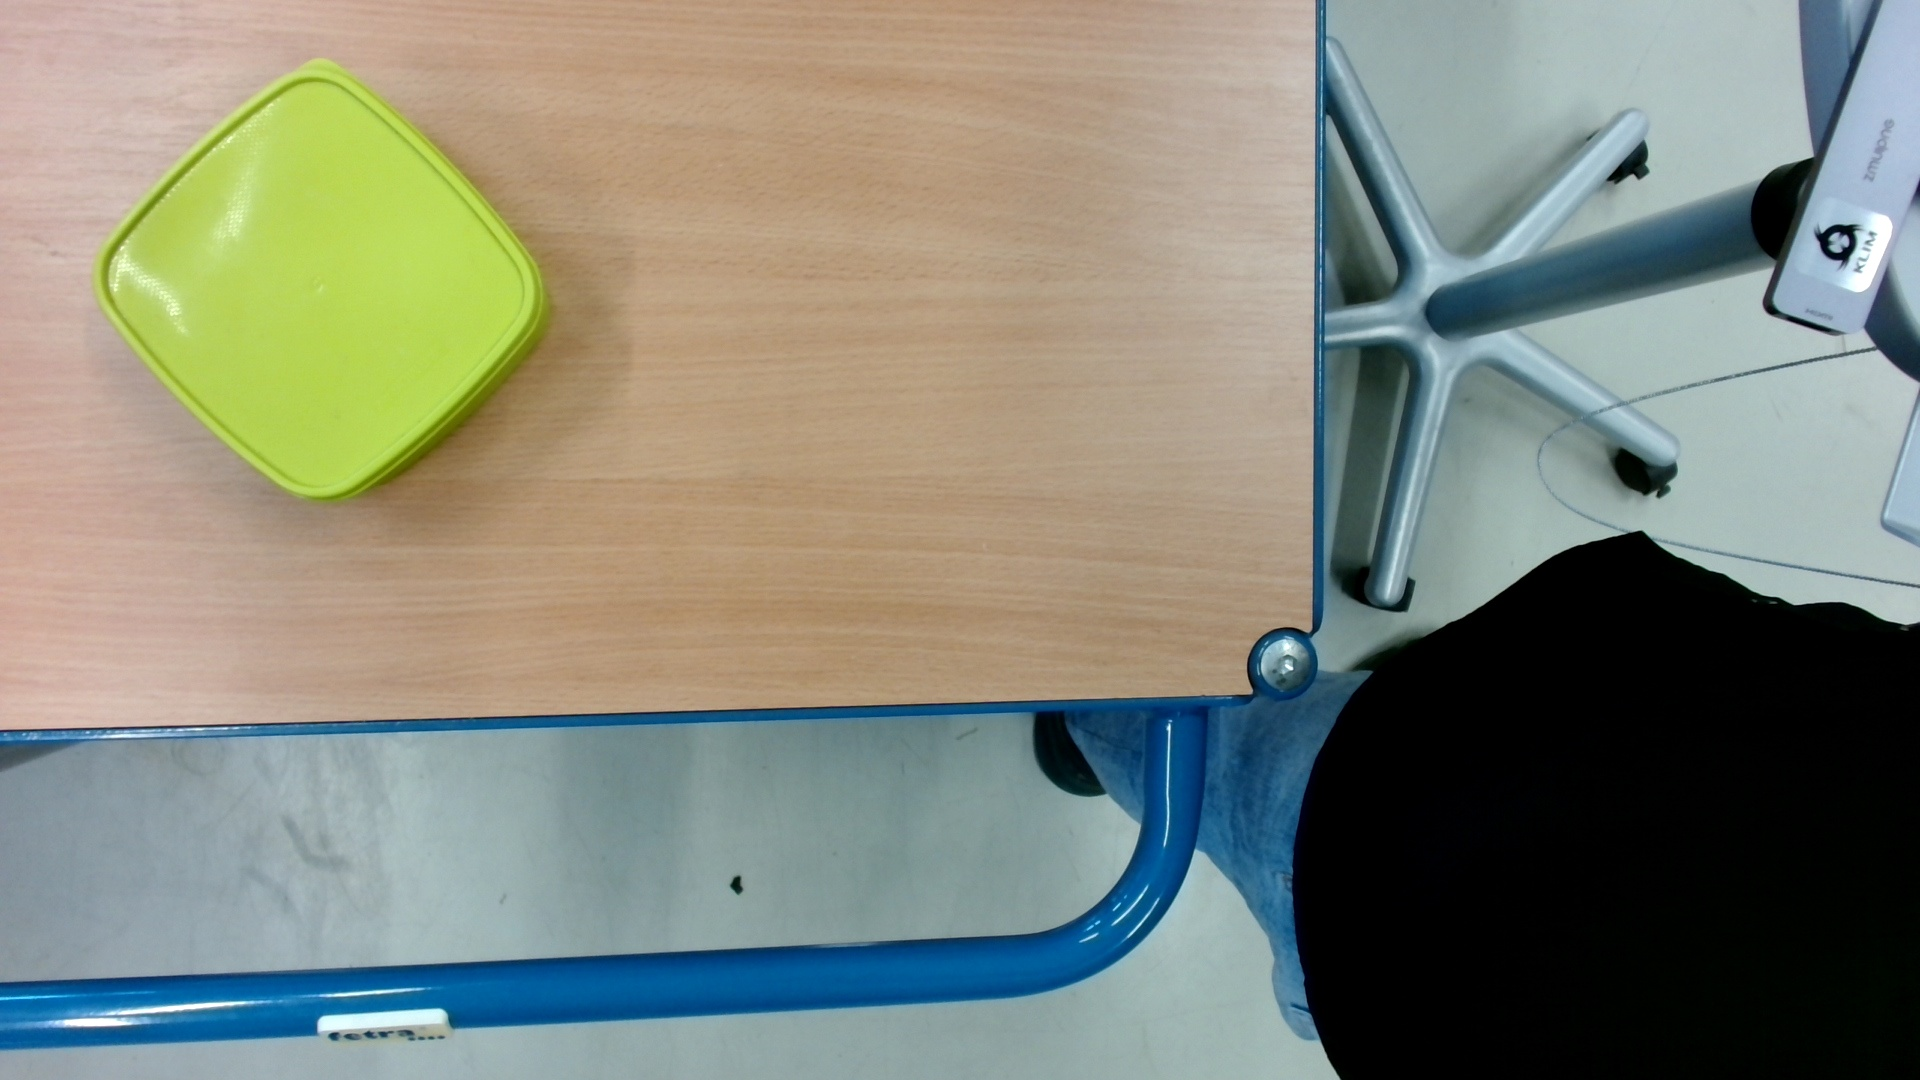Box: (84, 48, 555, 513)
